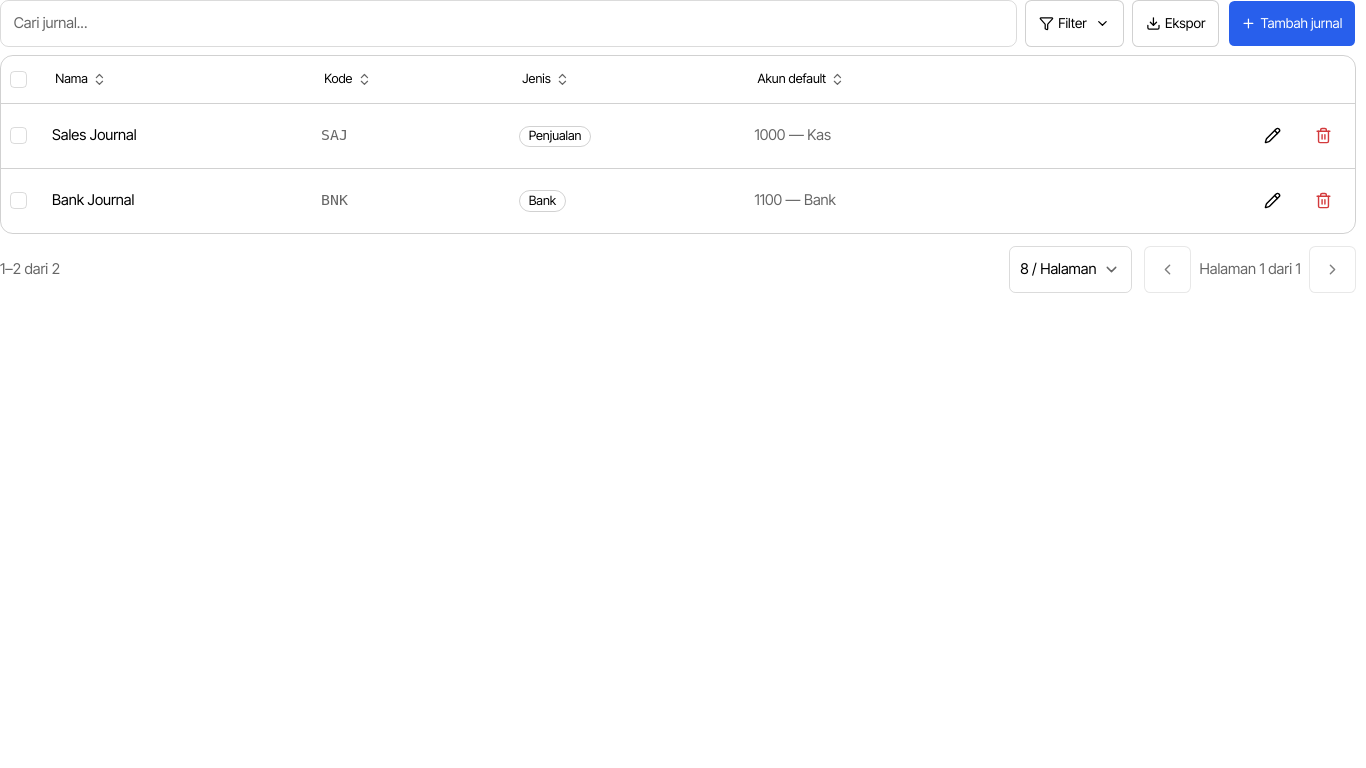
Test case: JournalsSection › opens the create dialog from the add button
Expected: the text "Sales Journal" is shown, x1=52 y1=126 x2=137 y2=144
Click the button "Tambah jurnal". click: (1292, 23)
box: x1=1228 y1=0 x2=1356 y2=47
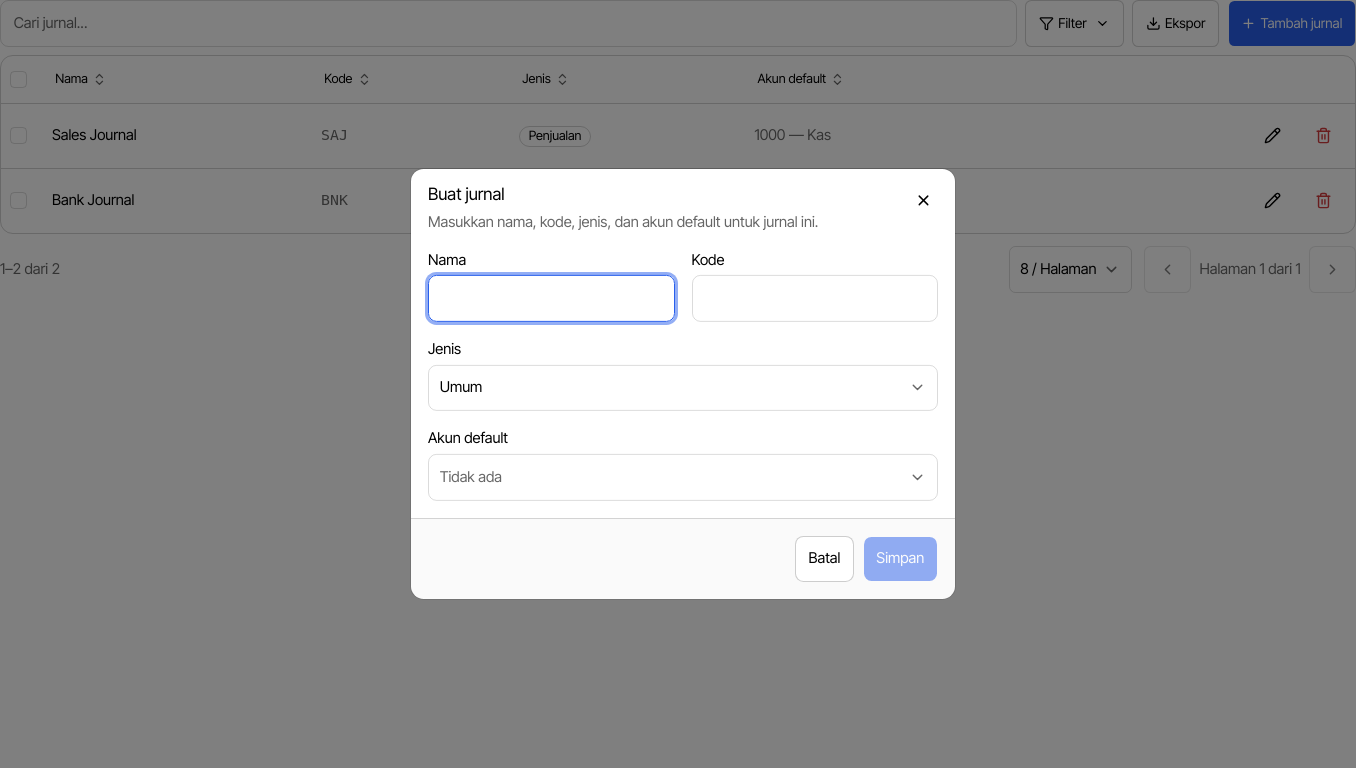
Expected: the dialog is shown, x1=411 y1=169 x2=955 y2=599
Expected: the heading "Buat jurnal" is shown, x1=428 y1=184 x2=505 y2=204
